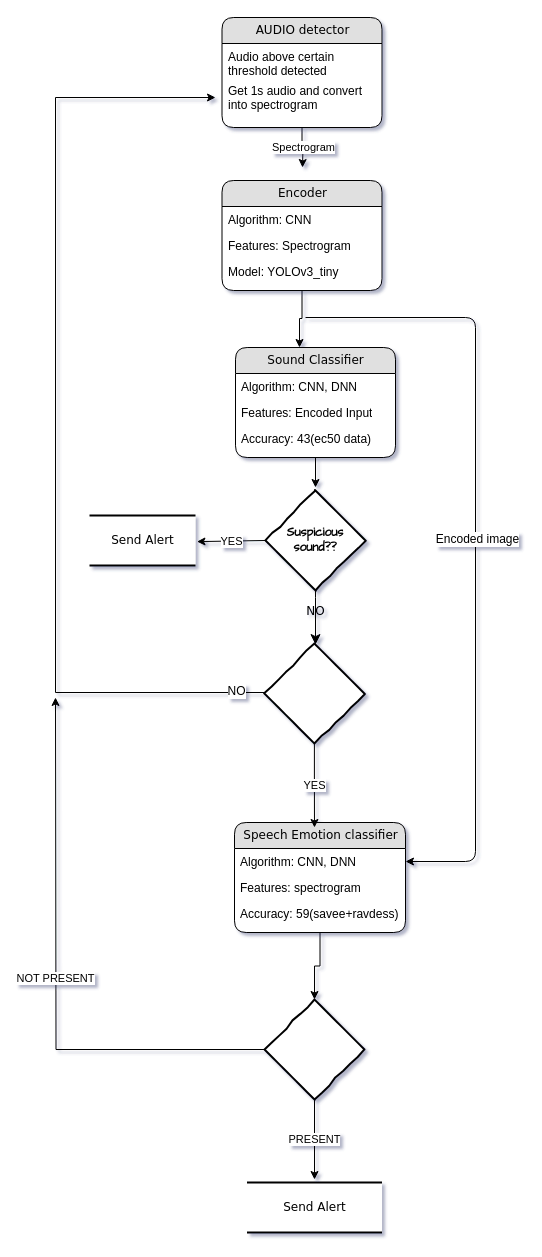
The diagram is 542 pixels wide and 1257 high, and some of its shapes have lost their labels. The centre of each missing label's shape, as x and y in pixels:
"Fear or Anger???" belongs at [314,1049].
"Human Sound???" belongs at [314,693].
